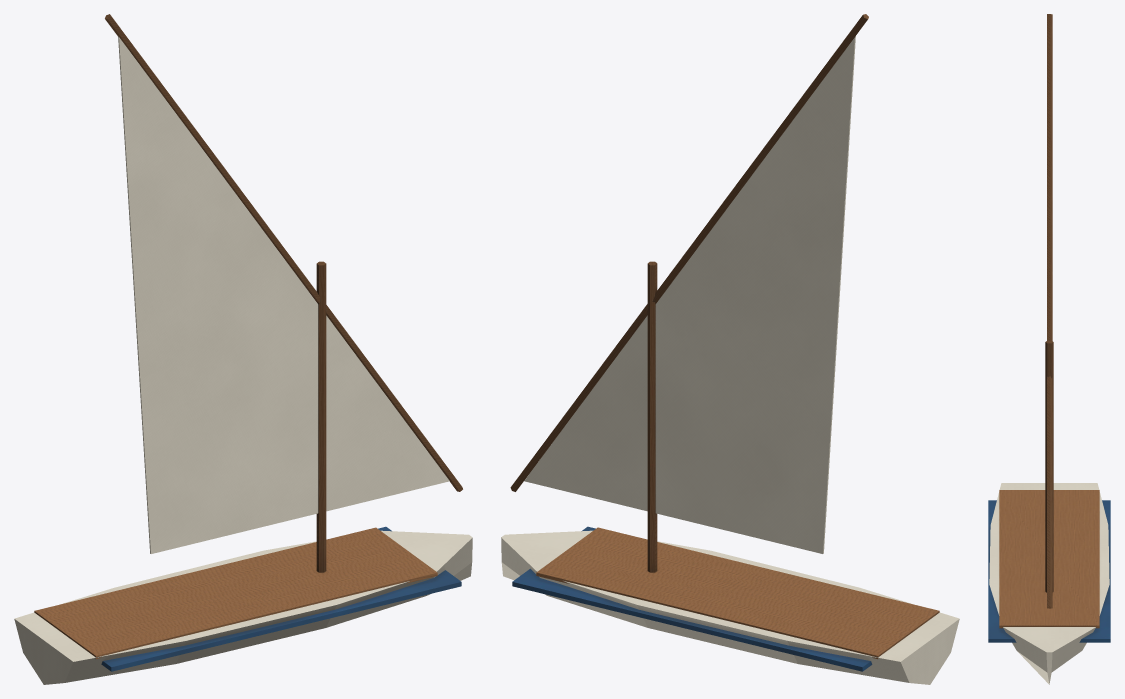
File: felucca_tex.glb
The picture shows the model from 3 angles, left to right: view 1: azimuth 30°, elevation 25°; view 2: azimuth 150°, elevation 25°; view 3: azimuth 270°, elevation 25°; orthographic projection. The views are drawn at different scales.
Visible parts, largest first — view 1: felucca; view 2: felucca; view 3: felucca.
Boxes of the visible parts, x1=… form: felucca: x1=14, y1=14, x2=472, y2=684; felucca: x1=501, y1=14, x2=959, y2=684; felucca: x1=988, y1=14, x2=1110, y2=684.
Size of the model in its own units: 8 by 11.83 by 2.45.
4 materials, 4 textured.
